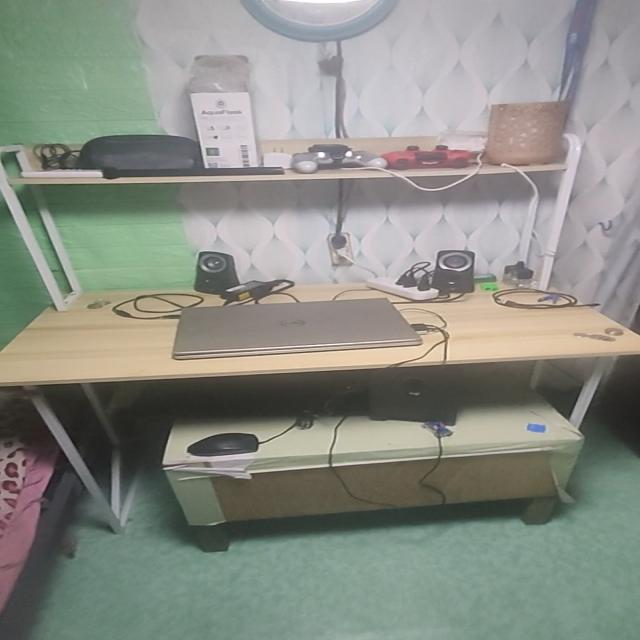table: (0, 271, 640, 530)
